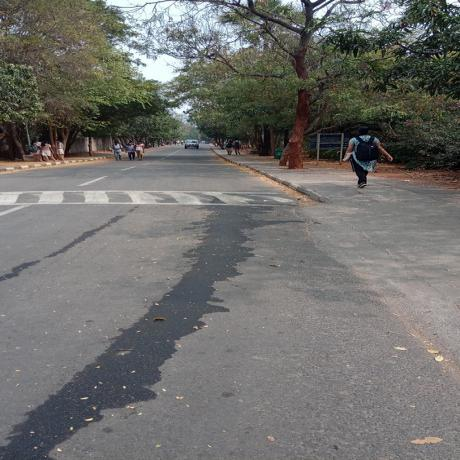Speed Bump: (1, 191, 302, 206)
